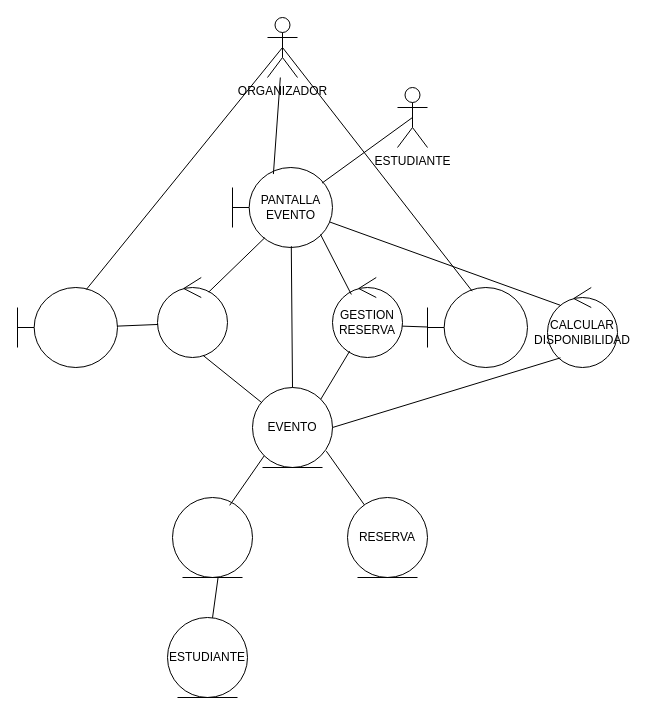
This 648x715 diagram has some shape labels left out. The box of each missing label's shape, as (x1, y1, x2, y2) in pixels:
ASISTENCIA: (172, 496, 252, 578)
GESTION ASISTENCIA: (156, 276, 228, 358)
REPORTE ASISTENCIAS: (16, 286, 118, 368)
REPORTE RESERVAS: (426, 286, 528, 368)
